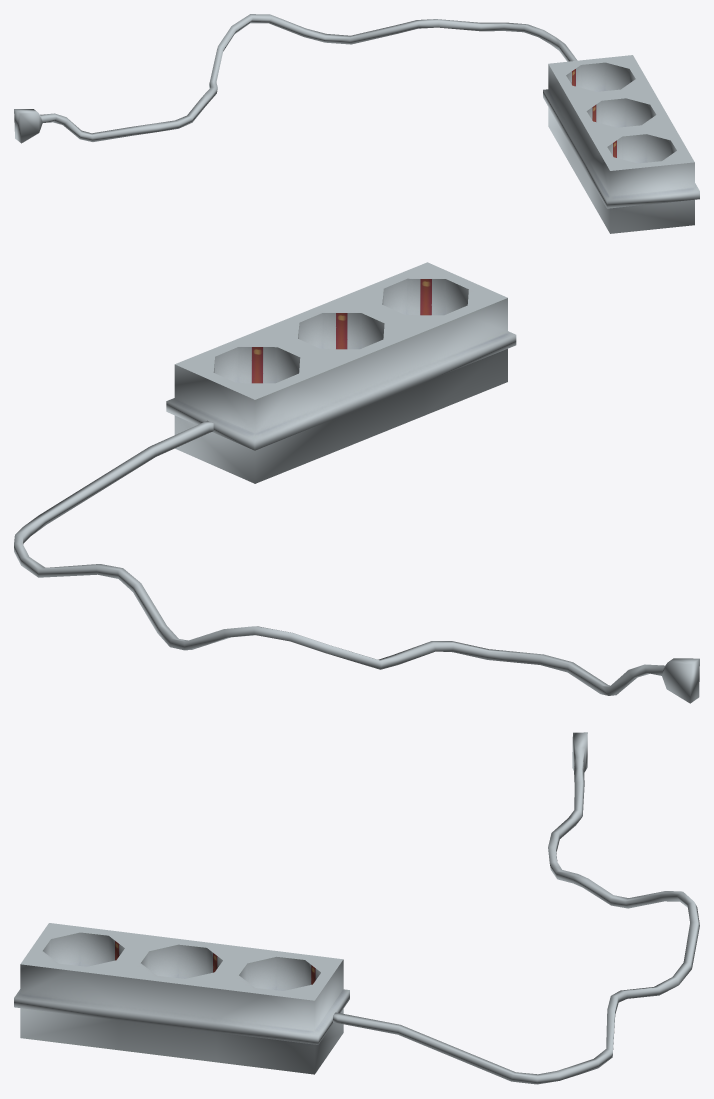
File: Regleta.DAE
3 views of the same model, one above another, from view 1: azimuth 30°, elevation 25°; view 2: azimuth 150°, elevation 25°; view 3: azimuth 270°, elevation 25° (orthographic). The views are drawn at different scales.
Parts seen in each view (by area): view 1: regleta_toycorriendo_regleta_group; view 2: regleta_toycorriendo_regleta_group; view 3: regleta_toycorriendo_regleta_group.
Boxes of the visible parts, x1,y1,x2,y2 form: regleta_toycorriendo_regleta_group: [14, 14, 699, 233]; regleta_toycorriendo_regleta_group: [14, 262, 699, 703]; regleta_toycorriendo_regleta_group: [14, 732, 699, 1084].
Bounding box in the file's own units: 34.53 × 33.53 × 3.98.
Materials: 1 (1 with a texture image).
